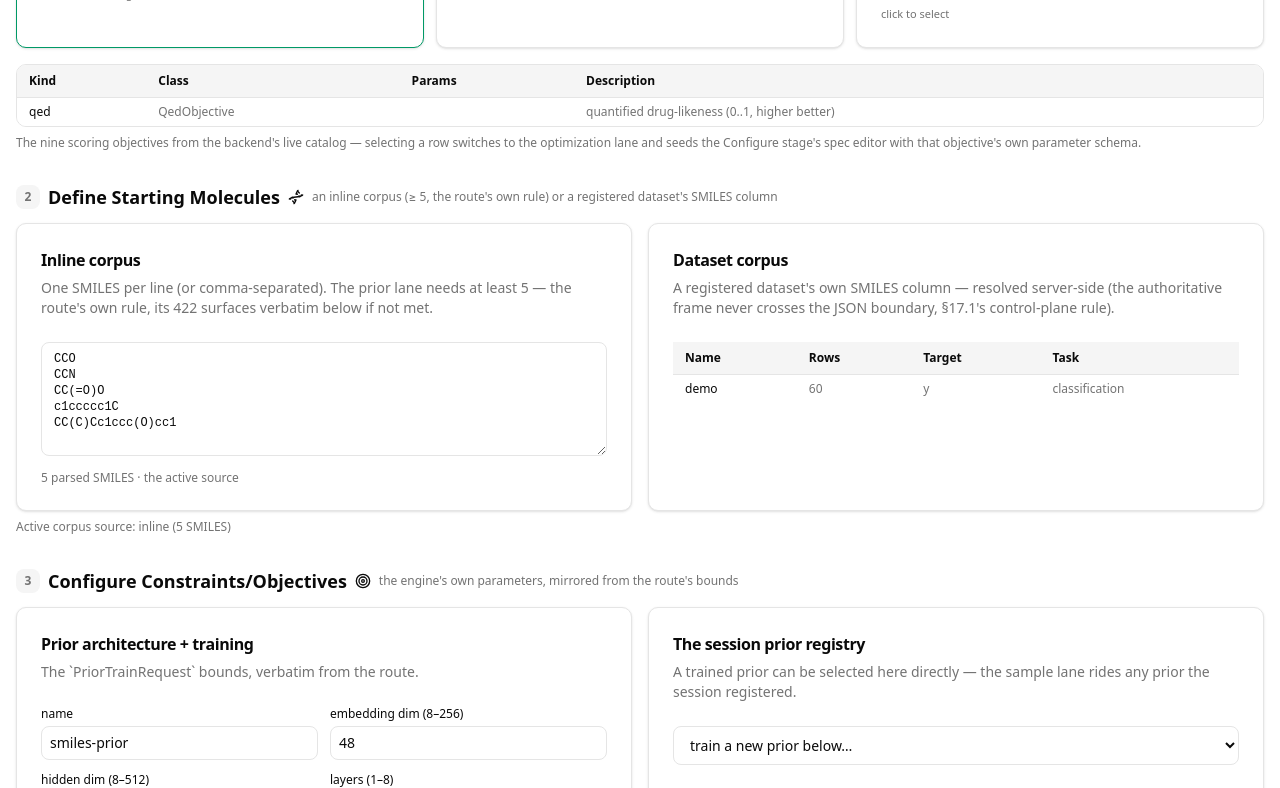
Test: the diffusion lane — train and the reverse chain › trains and samples through the DDPM lane
The width and height of the screenshot is (1280, 788).
(page scrolled)
Click the text "demo" at (956, 388), box [673,374,1239,402]
(page scrolled)
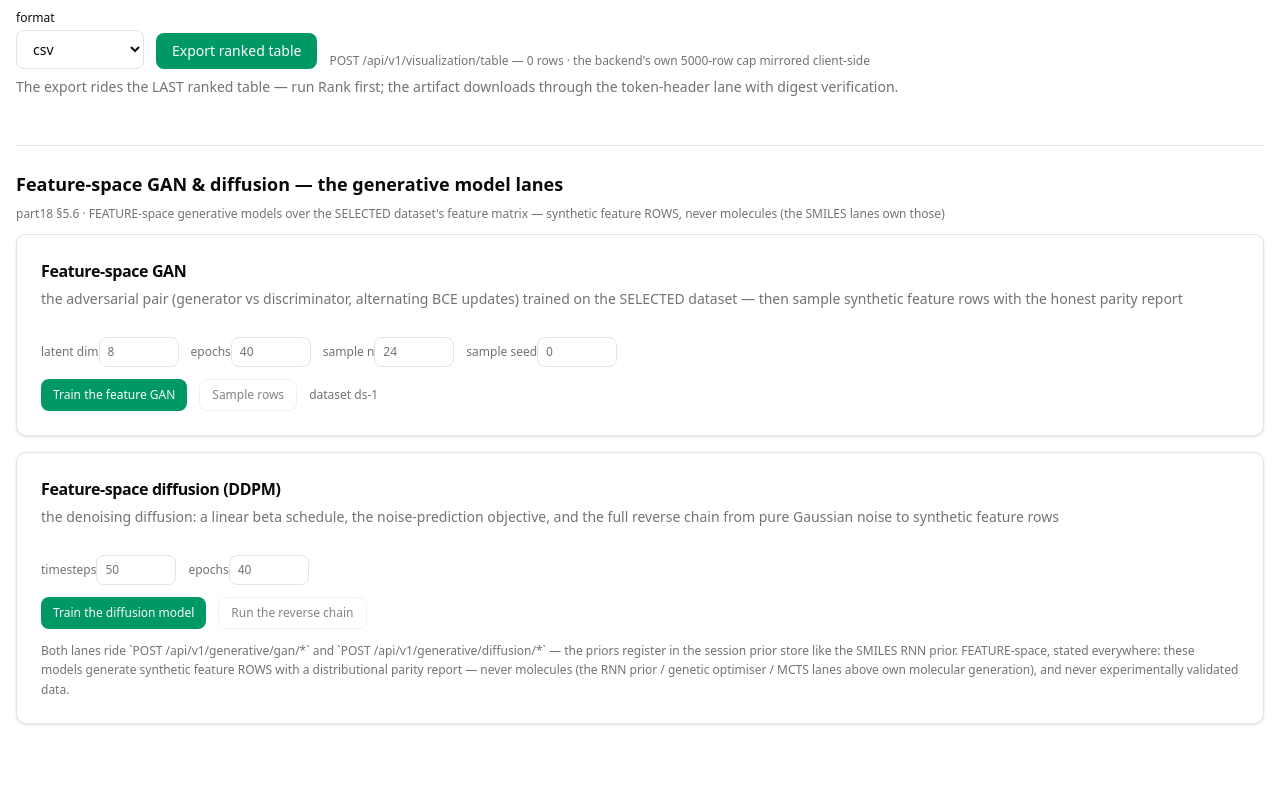
Now the button "Train the diffusion model" is enabled
Click the button "Train the diffusion model" at (124, 612), box [41,596,206,628]
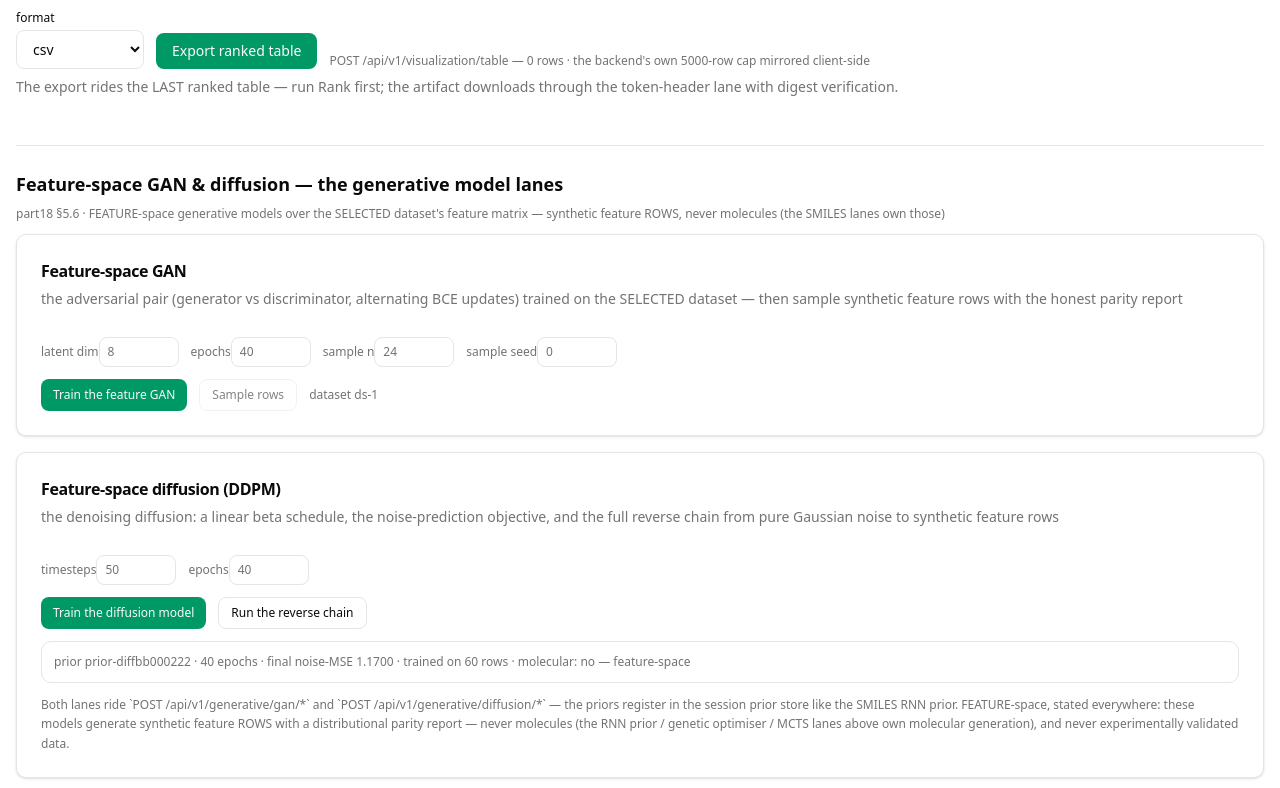
Now the text "prior-diffbb000222" is shown, box [85,652,191,670]
Now the button "Run the reverse chain" is enabled
Click the button "Run the reverse chain" at (292, 612), box [218,596,366,628]
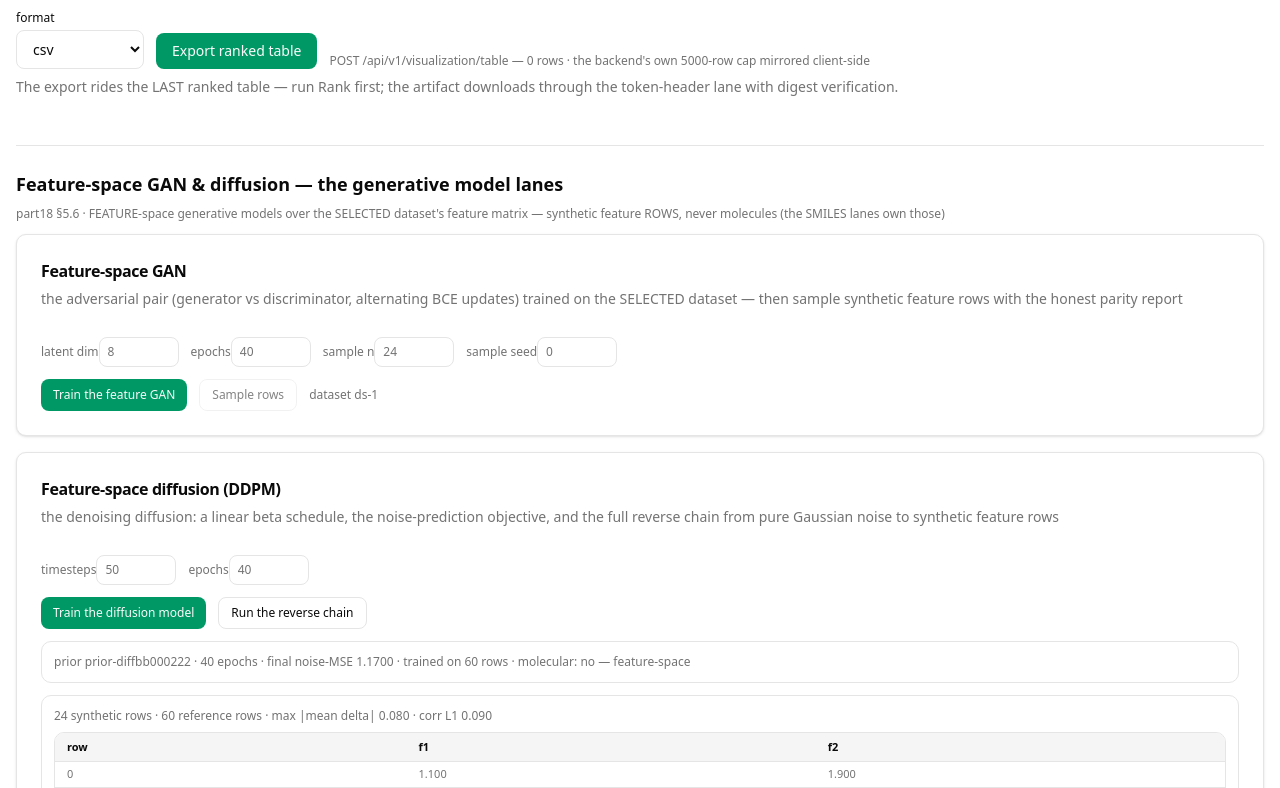
Now the text "corr L1 0.090" is shown, box [54,706,492,724]
